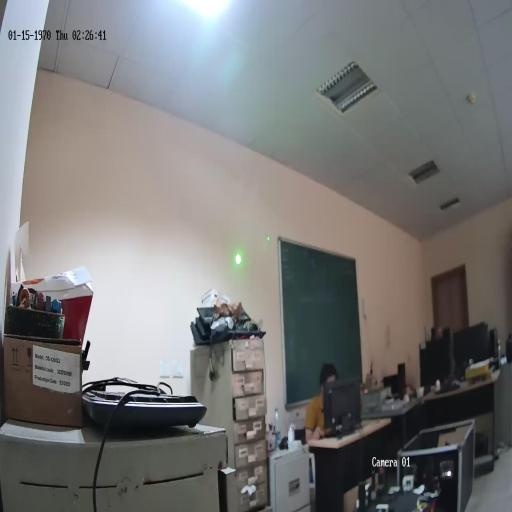laser: (234, 250, 241, 268)
